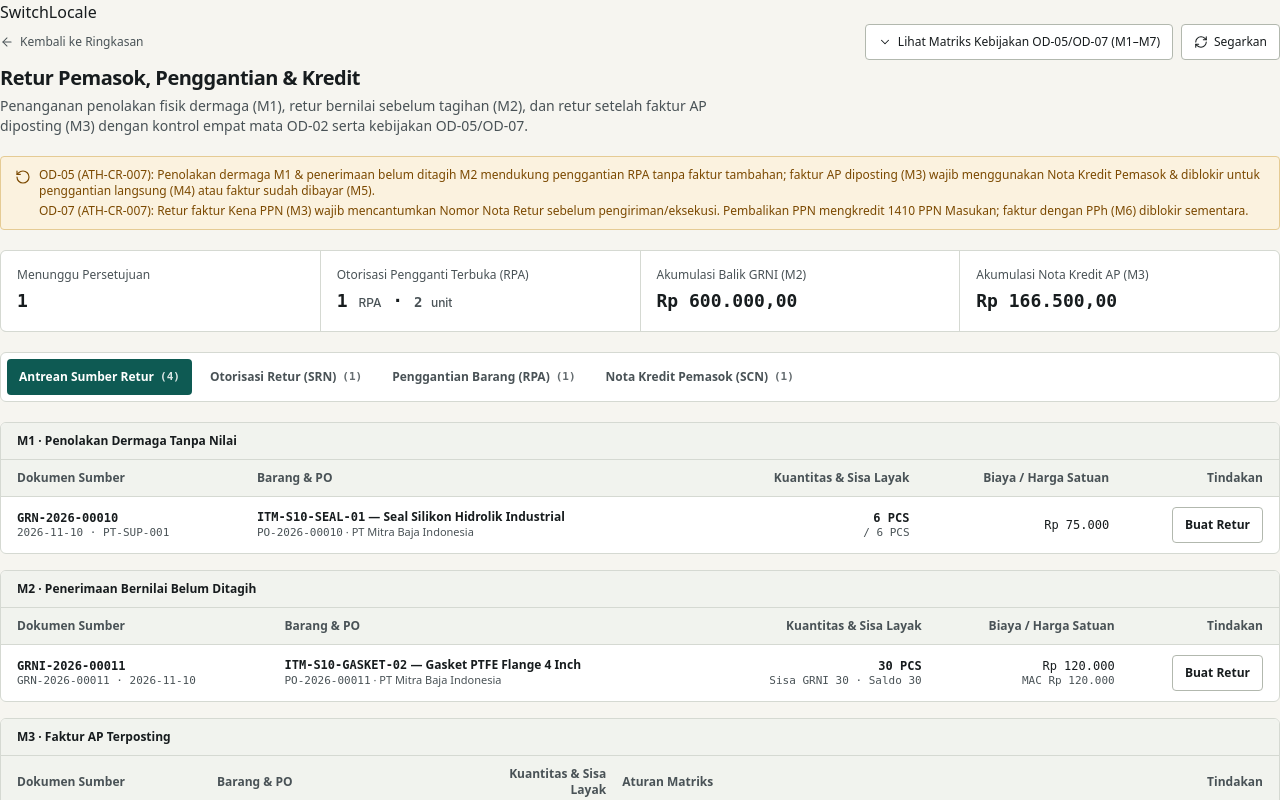
Scenario: S10 Supplier Returns, Replacements & Credits UI › renders queued M1/M2/M3 sources, toggles OD-05/OD-07 matrix, previews M4 block, and creates credit return draft
Expected: the element with test id "ret-governance-banner" is shown, [0, 156, 1279, 230]
Expected: the text "GRN-2026-00010" is shown, [17, 511, 118, 525]
Toggle policy matrix M1-M7
Click the button with id "ret-matrix-toggle" at x=1019, y=42, box [865, 24, 1173, 60]
(page scrolled)
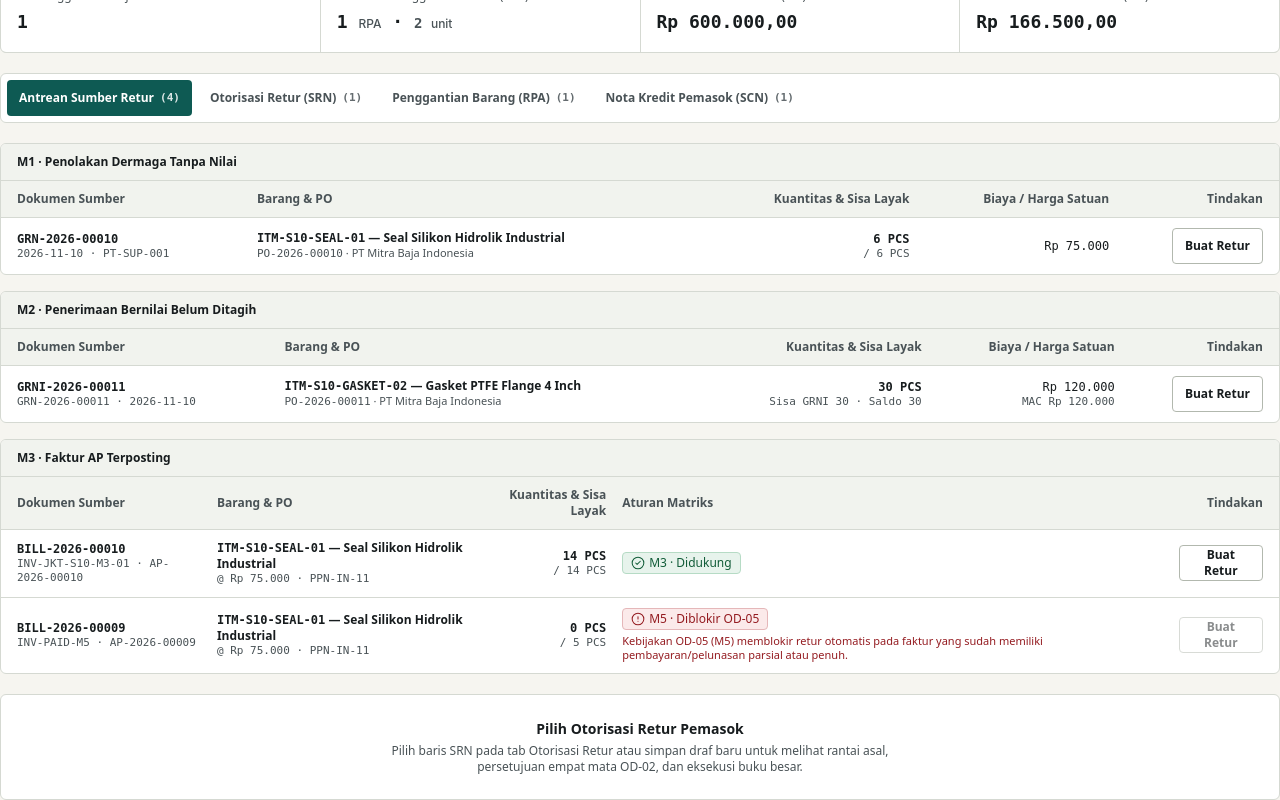
Open composer from M3 billed line, test M4 REPLACEMENT_ONLY block banner
Click the button with id "ret-prepare-m3-sbl-1" at x=1221, y=563, box [1179, 545, 1263, 581]
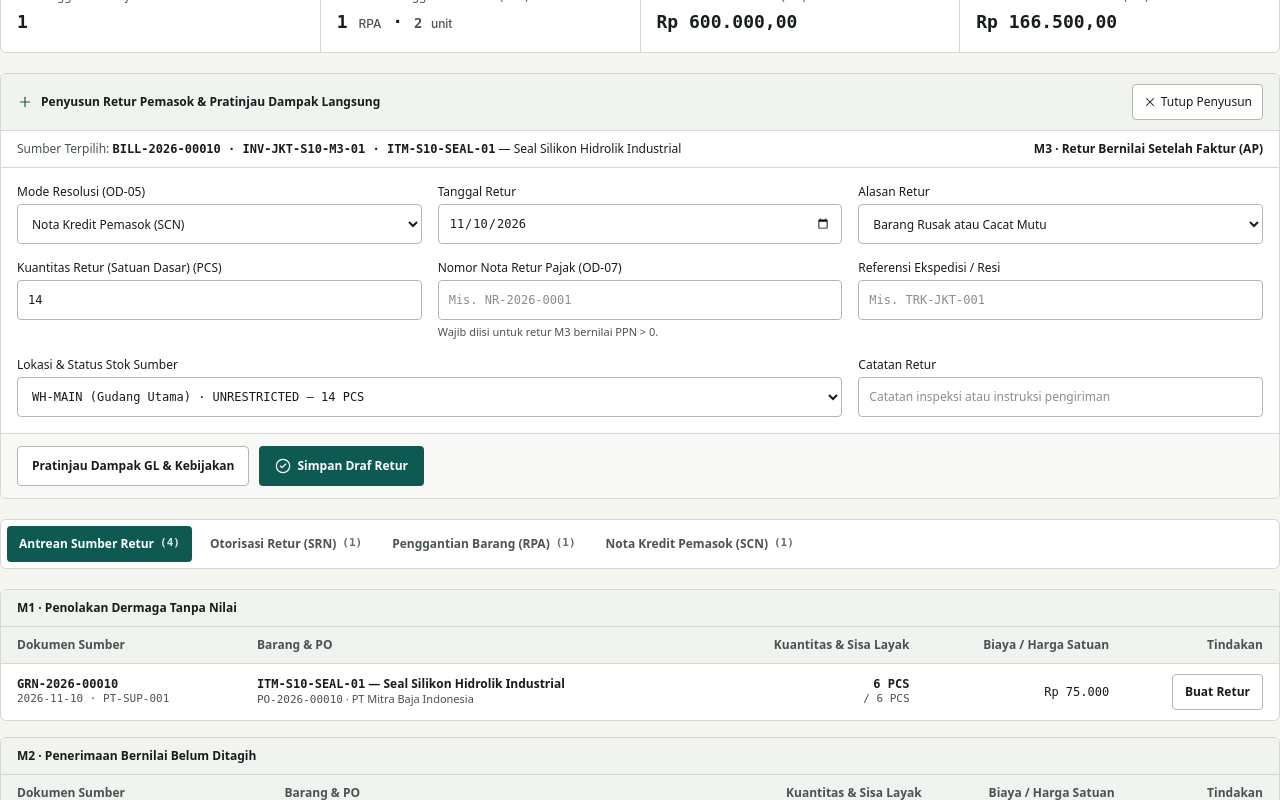
Result: the element with id "ret-composer" is shown at [0, 73, 1279, 498]
Select "Penggantian Barang (RPA)" in the dropdown with id "ret-composer-resolution" at x=219, y=224, box [17, 204, 422, 244]
Click the button with id "ret-preview-btn" at x=133, y=466, box [17, 446, 250, 486]
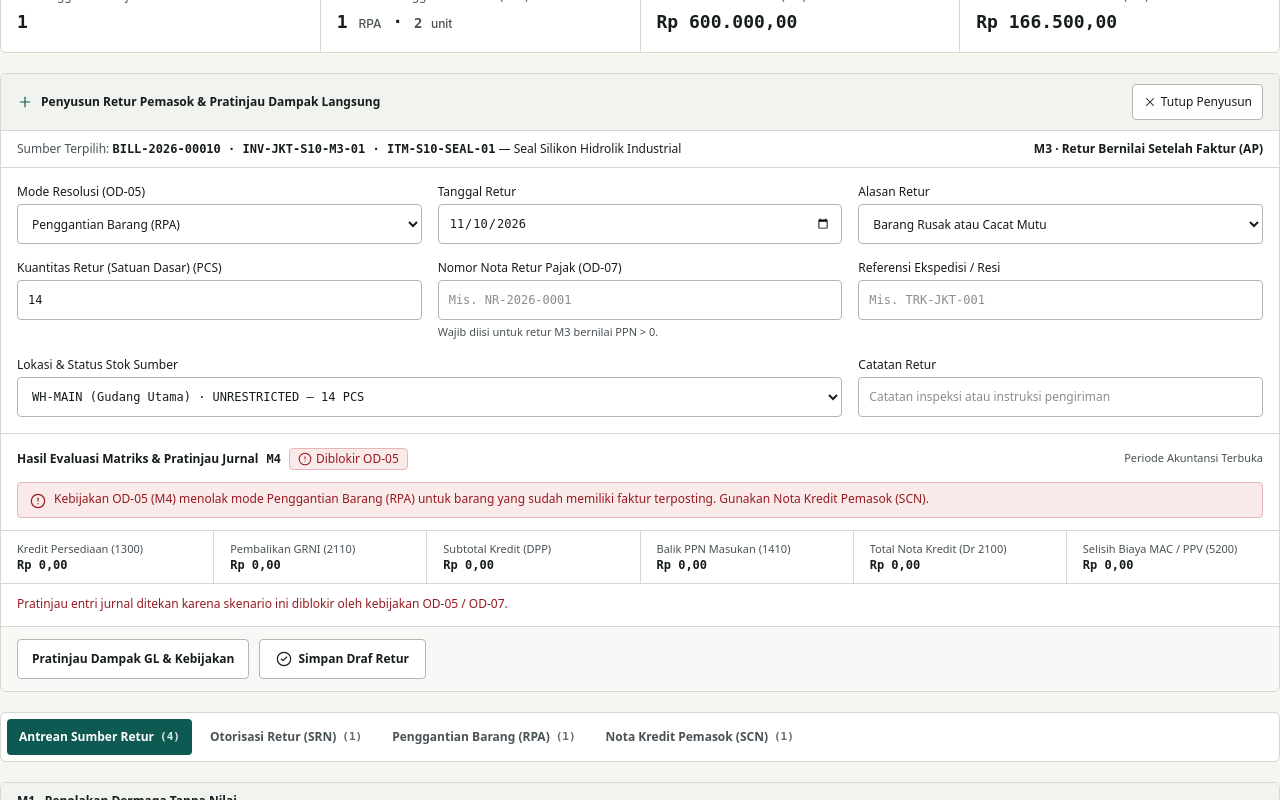
Result: the message with test id "ret-preview-blocked-banner" shows "OD-05 (M4)" at [54, 490, 929, 506]
Switch back to AP_CREDIT_NOTE, fill Nota Retur and save draft
Select "Nota Kredit Pemasok (SCN)" in the dropdown with id "ret-composer-resolution" at x=219, y=224, box [17, 204, 422, 244]
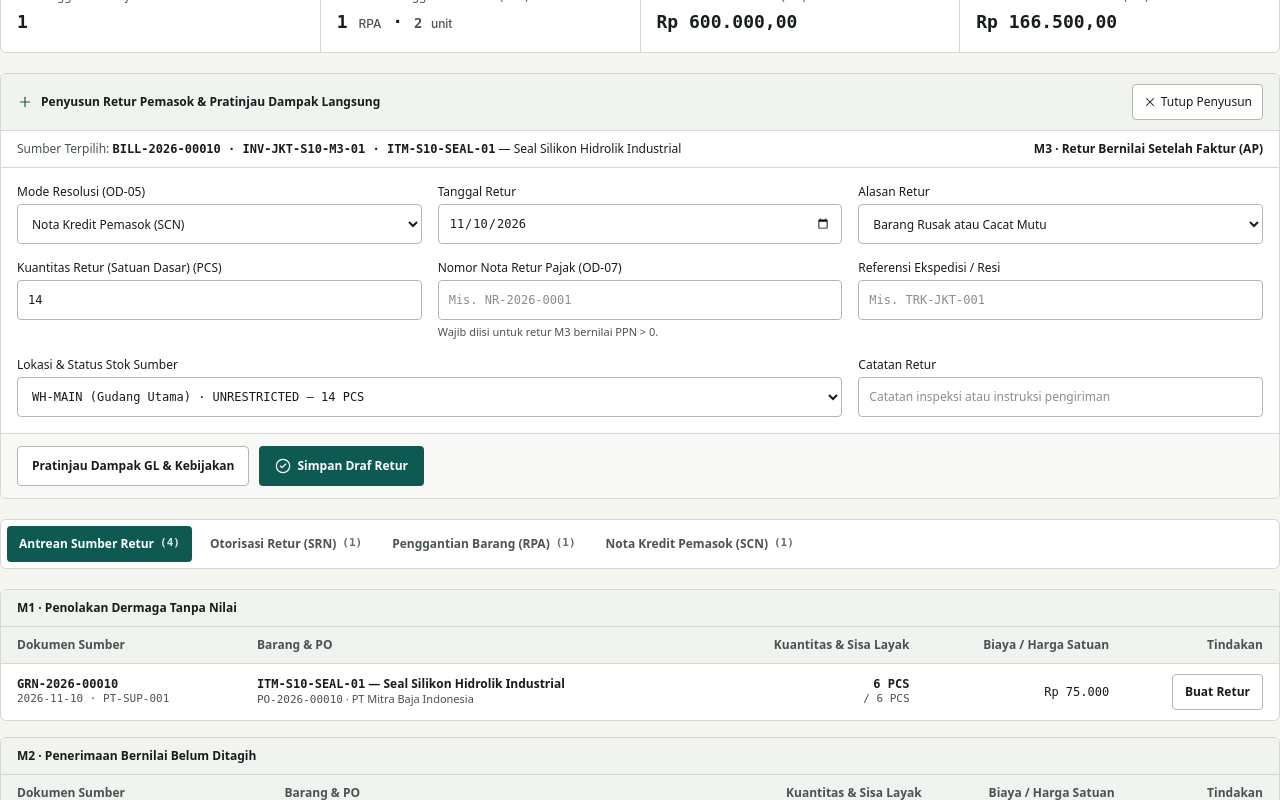
Replace the text in the number field with id "ret-composer-qty" with "2" at x=219, y=300, box [17, 280, 422, 320]
Type "NR-2026-0001" into the field with id "ret-composer-nota-retur" at x=640, y=300, box [438, 280, 842, 320]
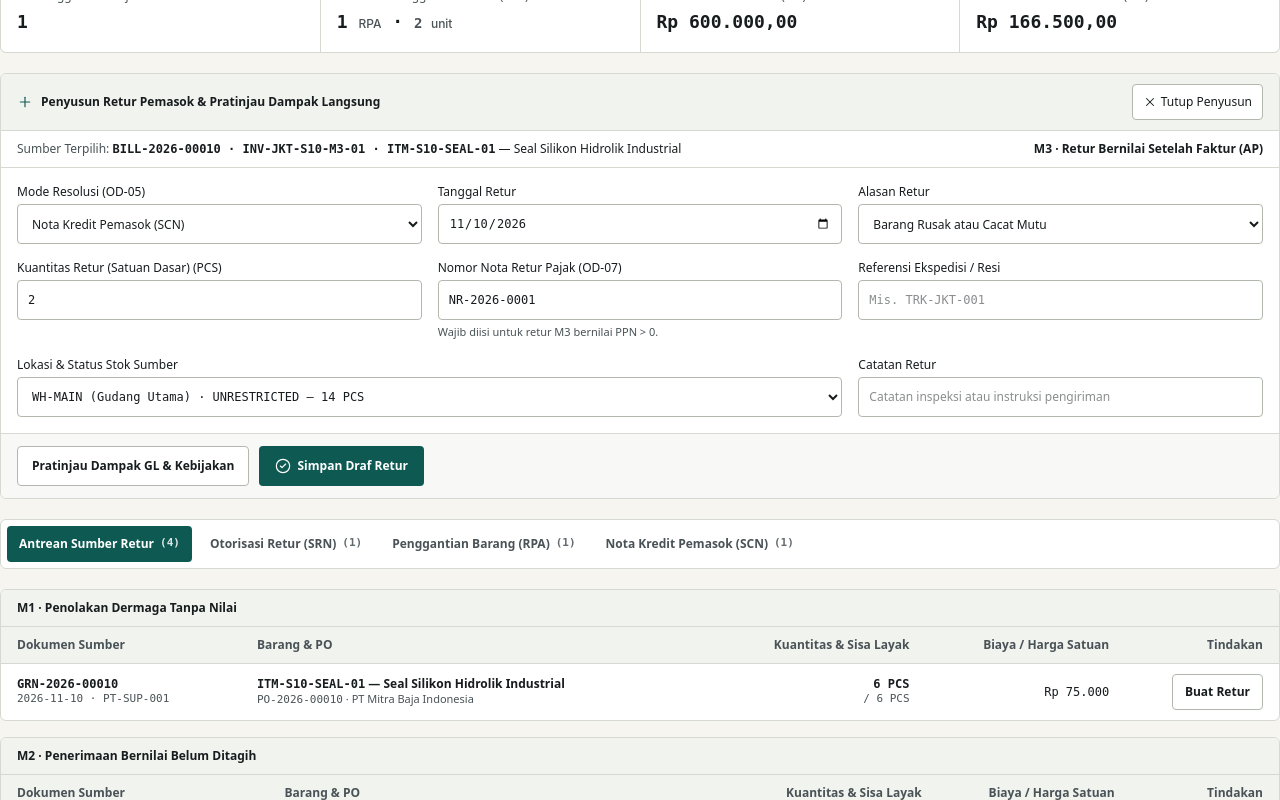
Click the button with id "ret-save-draft-btn" at x=342, y=466, box [260, 446, 424, 486]
(page scrolled)
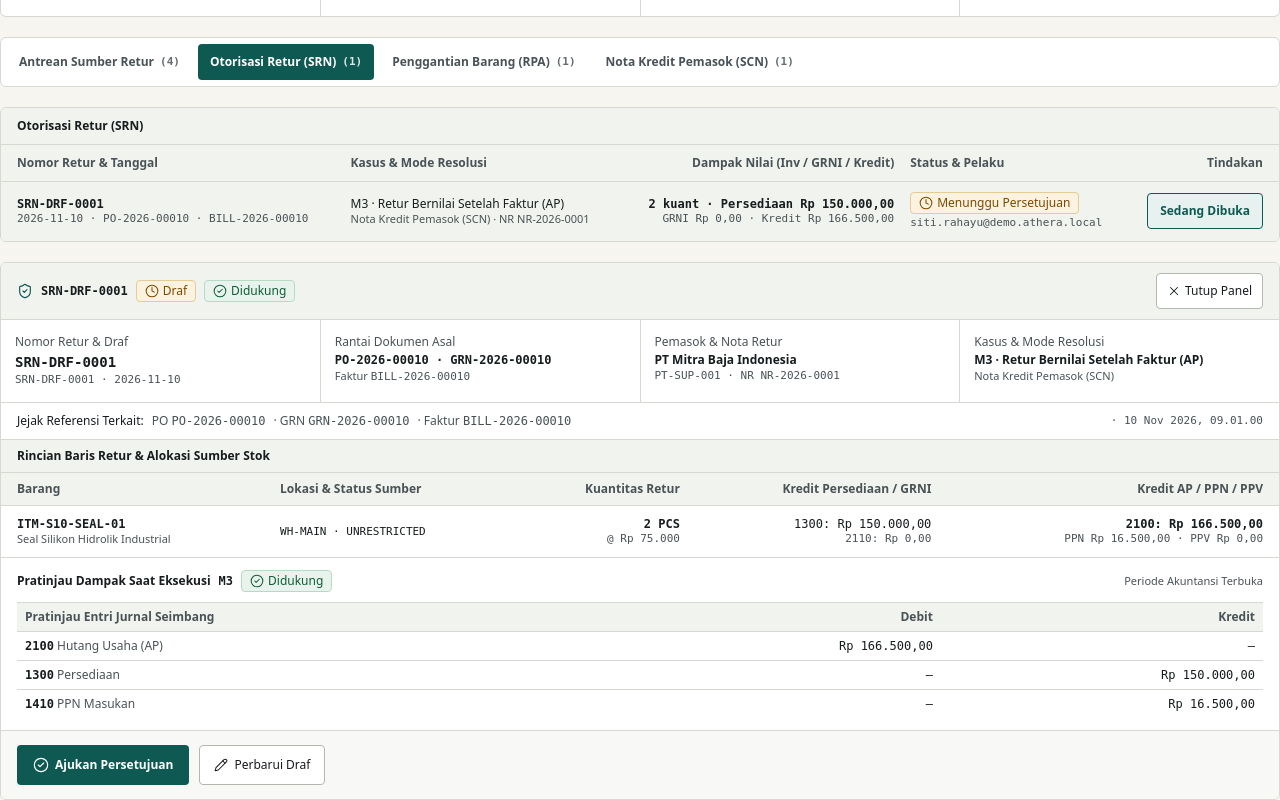
Result: the element with id "ret-detail-sheet" is shown
